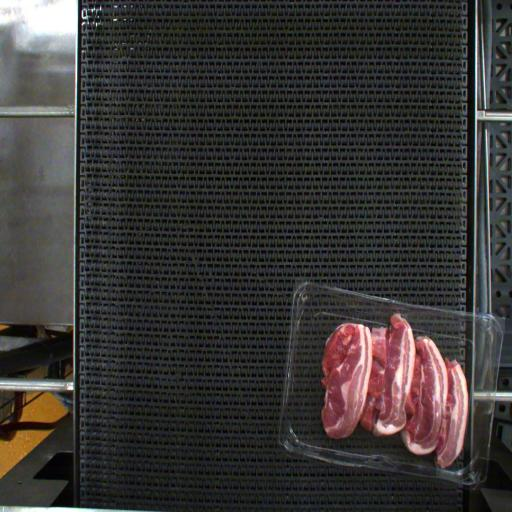twisted-meat: (362, 321, 388, 425)
